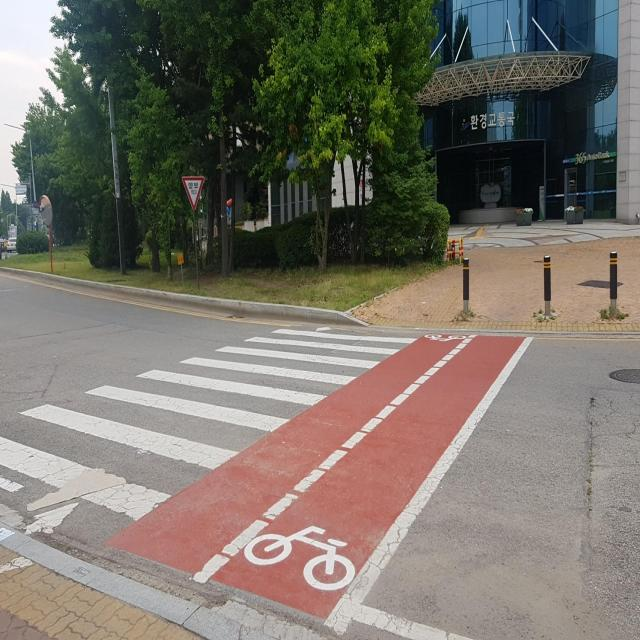횡단보도: (0, 320, 420, 540)
